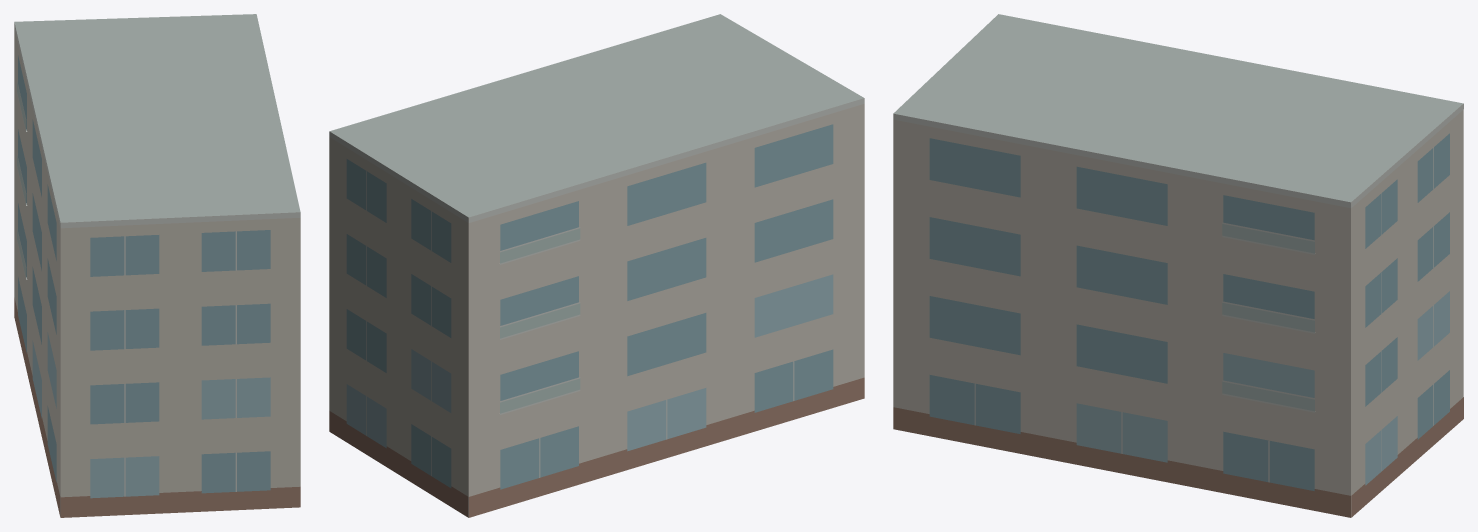
File: survey-upis-32663352.glb
3 renders of one model, left to right at view 1: azimuth 30°, elevation 25°; view 2: azimuth 150°, elevation 25°; view 3: azimuth 270°, elevation 25°, orthographic. The views are drawn at different scales.
Parts seen in each view (by area): view 1: survey-upis-32663352.tmp; view 2: survey-upis-32663352.tmp; view 3: survey-upis-32663352.tmp.
Boxes of the visible parts, left/top/right/bottom form: survey-upis-32663352.tmp: left=14, top=14, right=300, bottom=517; survey-upis-32663352.tmp: left=329, top=14, right=864, bottom=517; survey-upis-32663352.tmp: left=893, top=14, right=1463, bottom=517.
Size of the model in its own units: 16.65 by 13 by 21.31.
